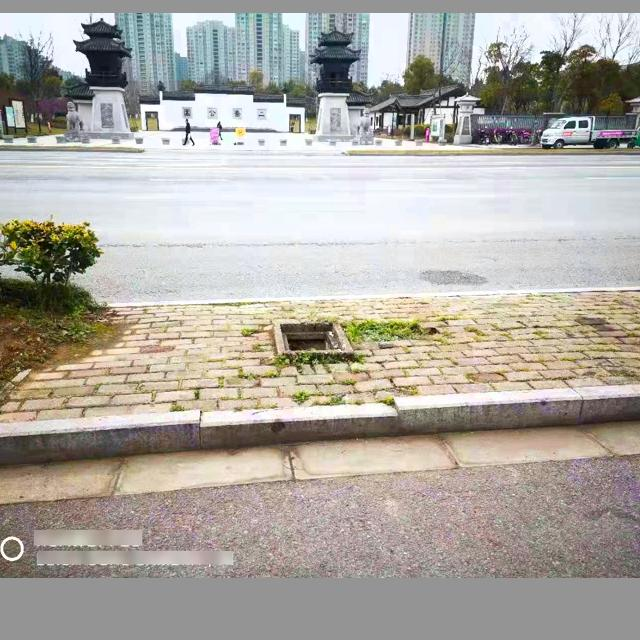lose: (272, 316, 355, 356)
